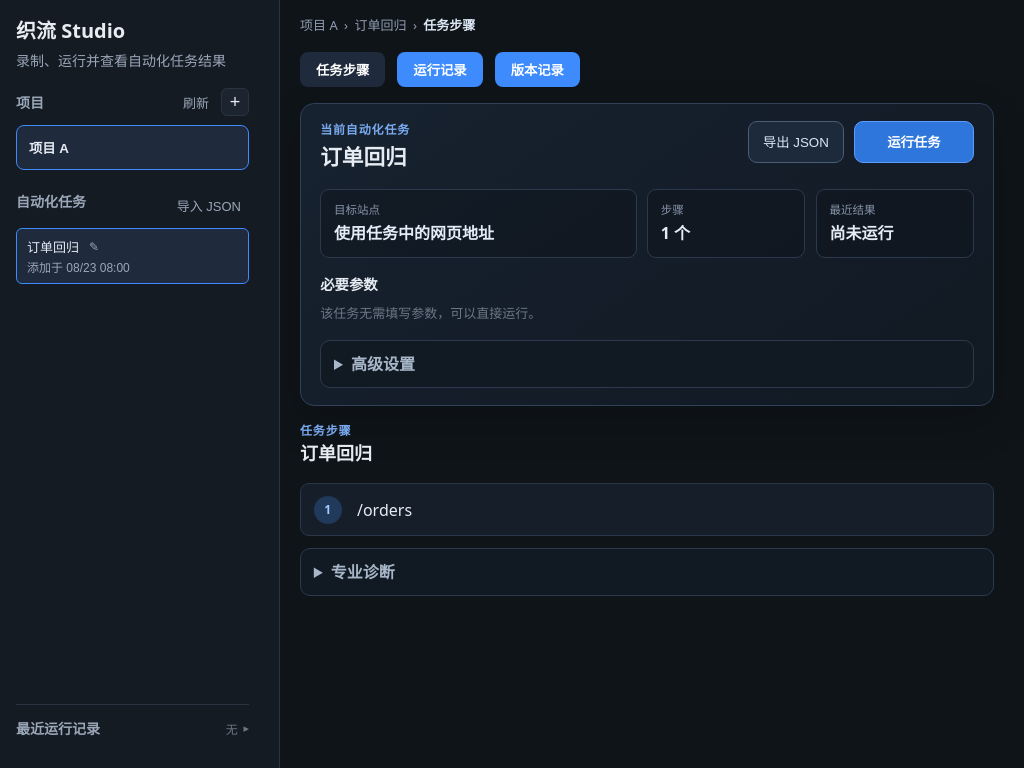
Test case: App Flow 导入导出 › 导出写入失败显示错误且不伪报成功
The width and height of the screenshot is (1024, 768).
Click the button "导出 JSON": [796, 142] box 748,121 -> 844,163
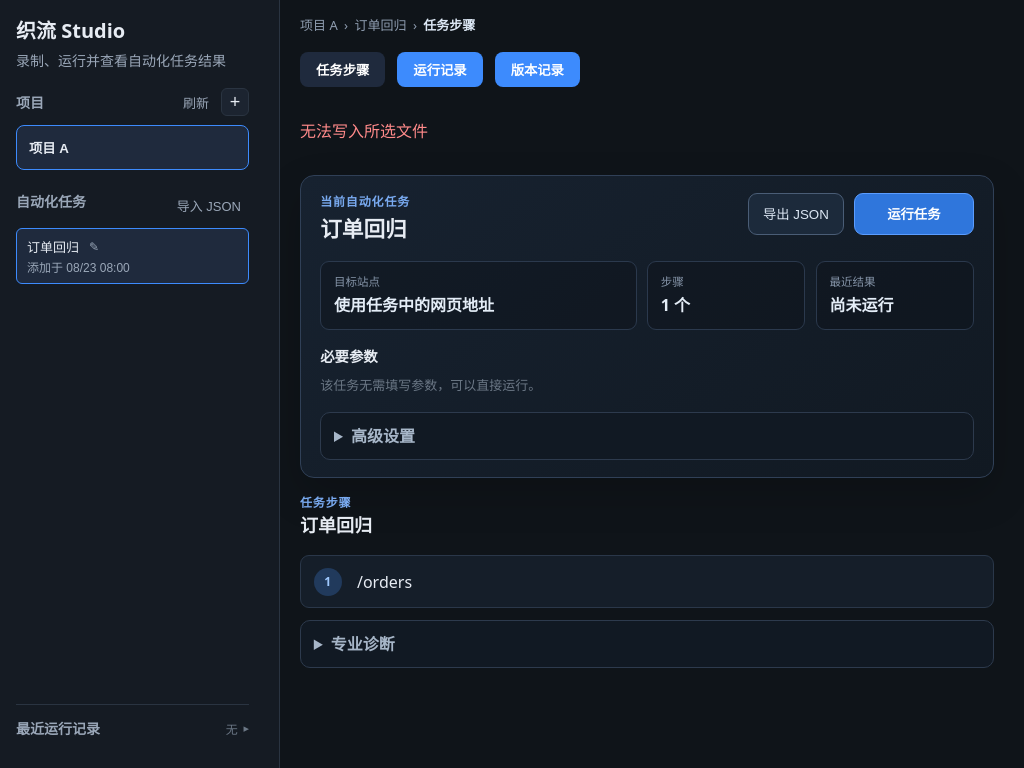
Check: the message "无法写入所选文件" is shown, box 300,120 -> 428,142
